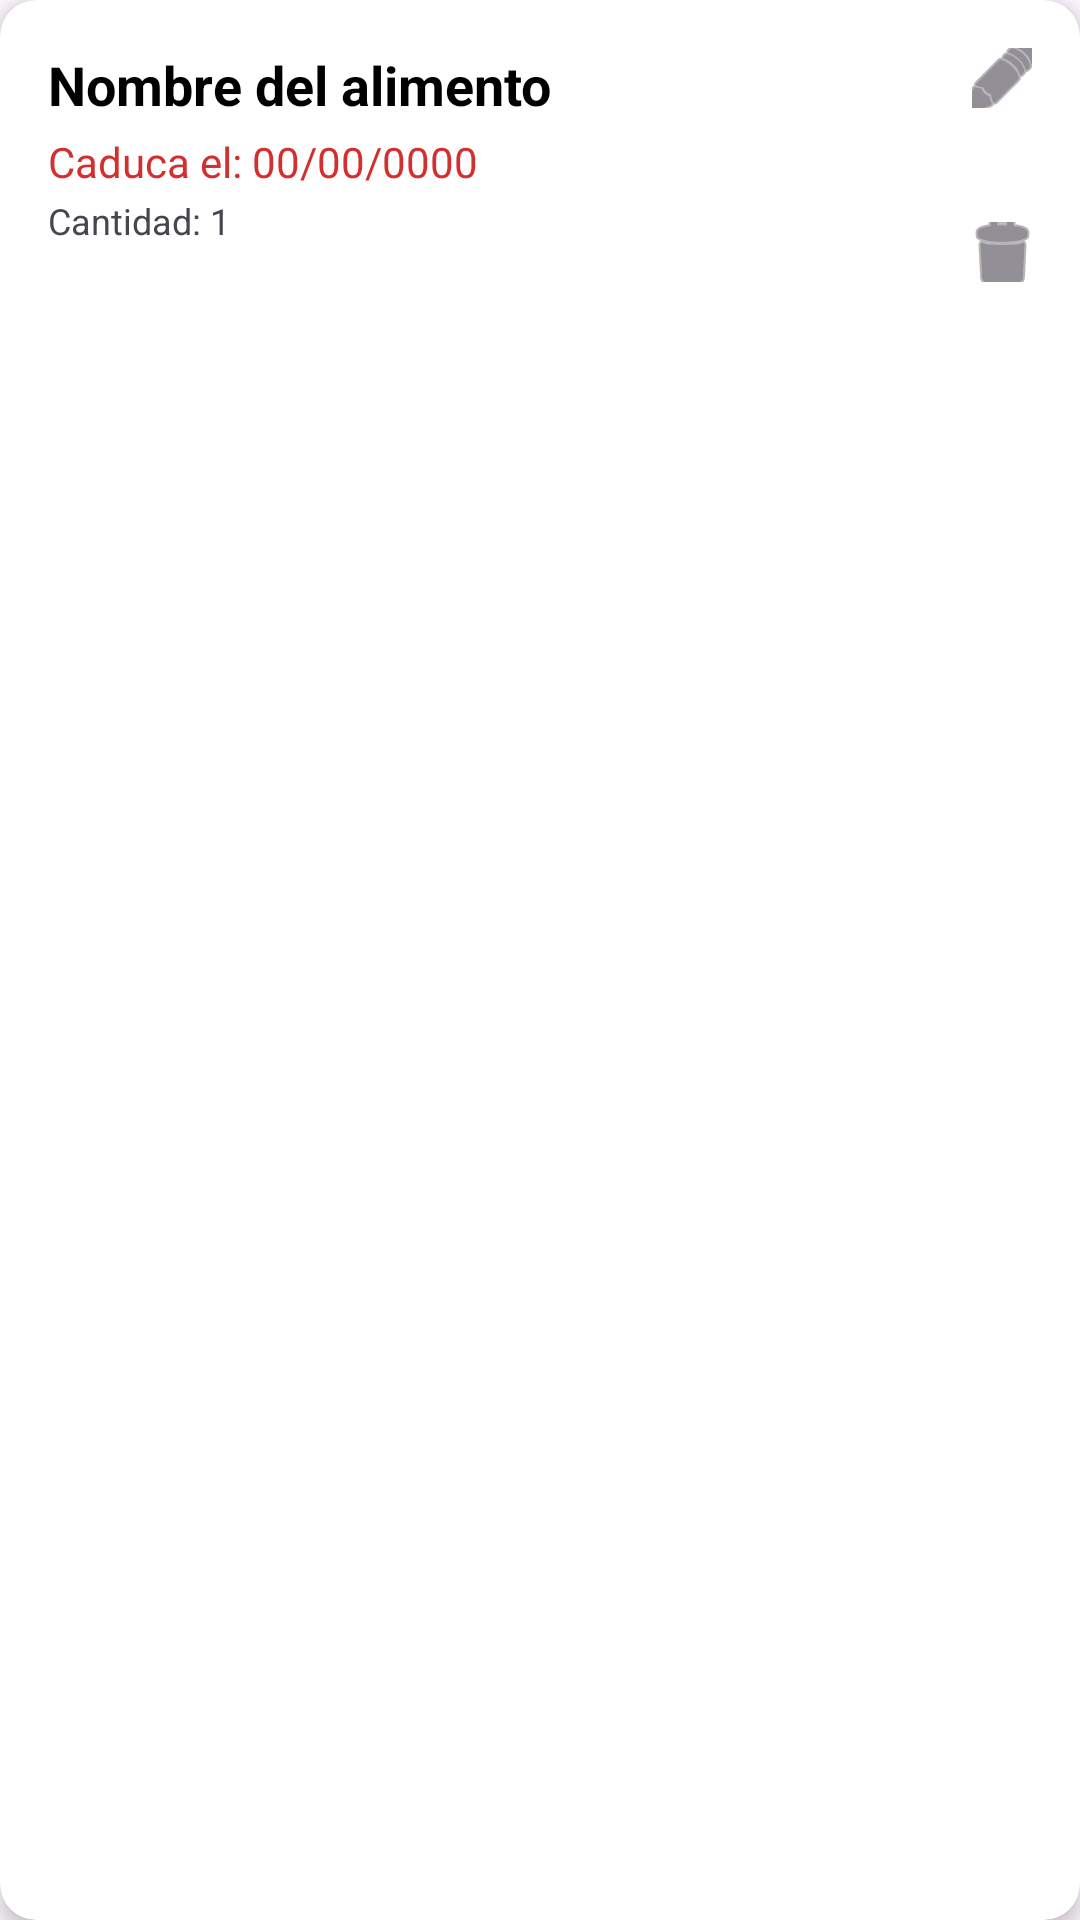

Point at icon controls on the screen. Image size 1080x1920, points as (x=x, y=y).
Borrar: (x=1002, y=252)
Editar: (x=1002, y=78)
